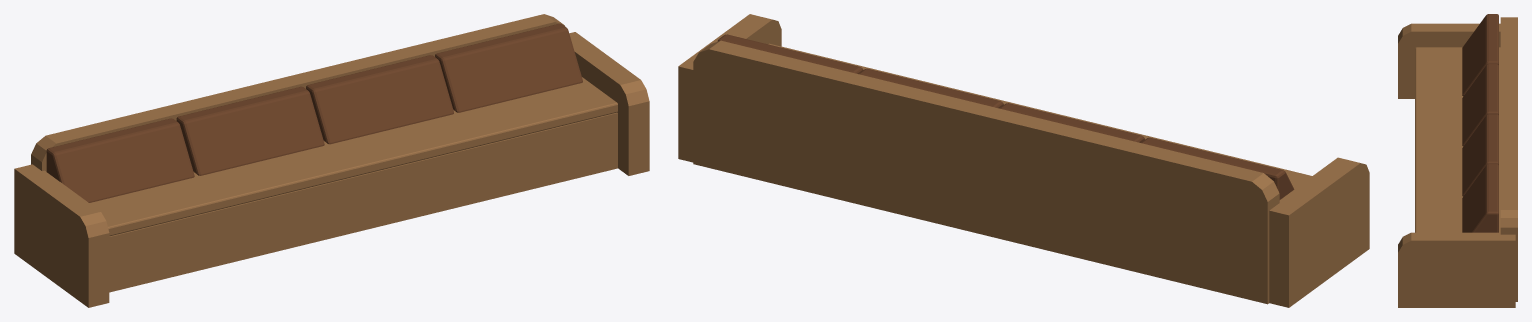
Rendered from Sofa01.fbx.
3 views of the same model, side by side, from view 1: azimuth 30°, elevation 25°; view 2: azimuth 150°, elevation 25°; view 3: azimuth 270°, elevation 25° (orthographic). The views are drawn at different scales.
Visible parts, largest first — view 1: Cube.031; view 2: Cube.031; view 3: Cube.031.
Part boxes in pixels (box(x1,y1,x2,y2)): Cube.031: box(14, 14, 649, 307); Cube.031: box(678, 14, 1369, 307); Cube.031: box(1398, 14, 1517, 307).
Bounding box in the file's own units: 767 × 142 × 179.
